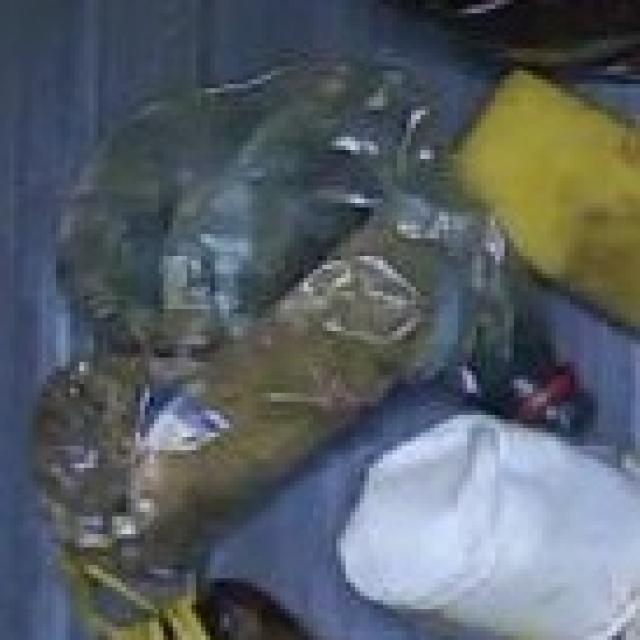plasticbottle: (41, 61, 584, 546)
